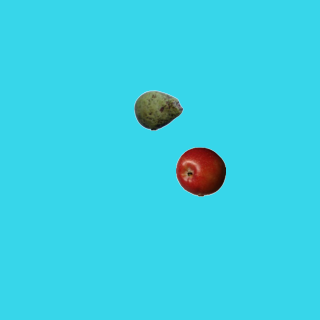Apple Braeburn: (175, 146, 225, 196)
Pear Stone: (133, 85, 183, 135)
